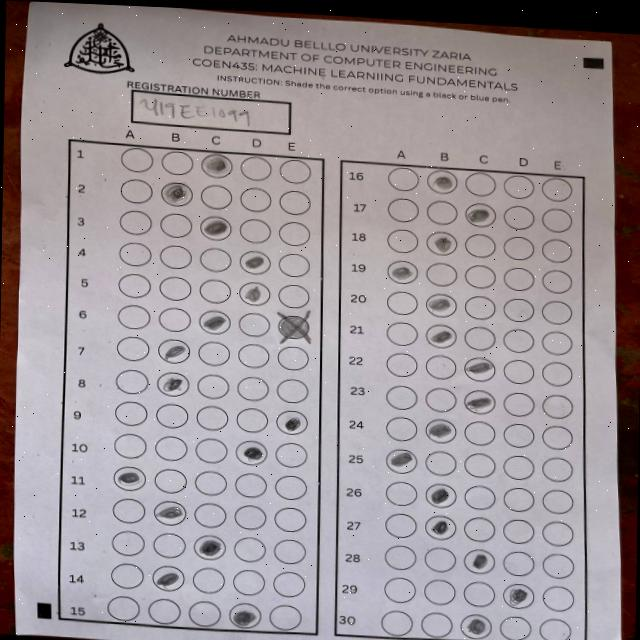bubble: (200, 151, 233, 179), (151, 564, 184, 592), (192, 534, 225, 561), (460, 613, 492, 640), (228, 602, 260, 629), (113, 465, 146, 491), (153, 499, 187, 524), (462, 389, 496, 414), (156, 370, 188, 396), (276, 409, 308, 435), (235, 439, 267, 465), (425, 322, 457, 348), (424, 292, 456, 318), (502, 583, 534, 609), (157, 338, 190, 363), (160, 181, 192, 206), (200, 215, 232, 240), (198, 309, 230, 334), (424, 418, 456, 443), (424, 514, 456, 539), (426, 482, 456, 508), (464, 548, 494, 574), (238, 281, 269, 306), (462, 356, 494, 380), (464, 203, 494, 228), (386, 448, 416, 473), (239, 250, 270, 274), (386, 260, 416, 284), (427, 231, 457, 255), (428, 170, 457, 192)
